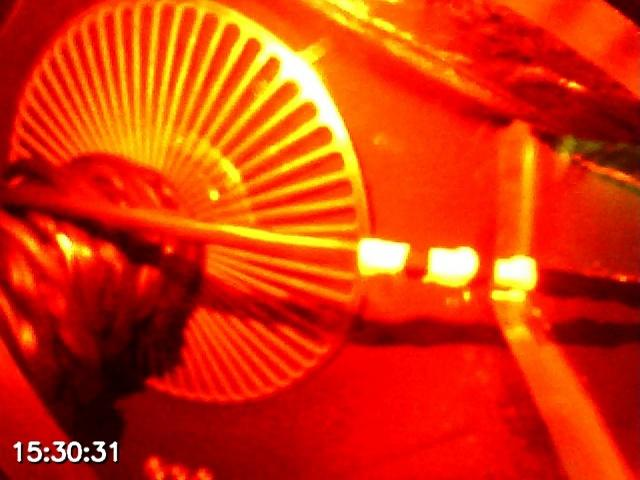white-dots: (356, 237, 537, 290)
